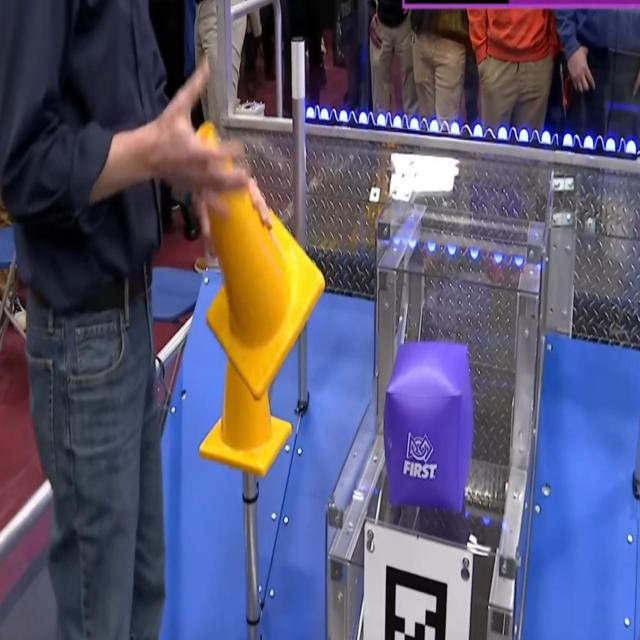frc_cone: (194, 115, 326, 403), (195, 353, 294, 478)
frc_cube: (385, 344, 474, 513)
